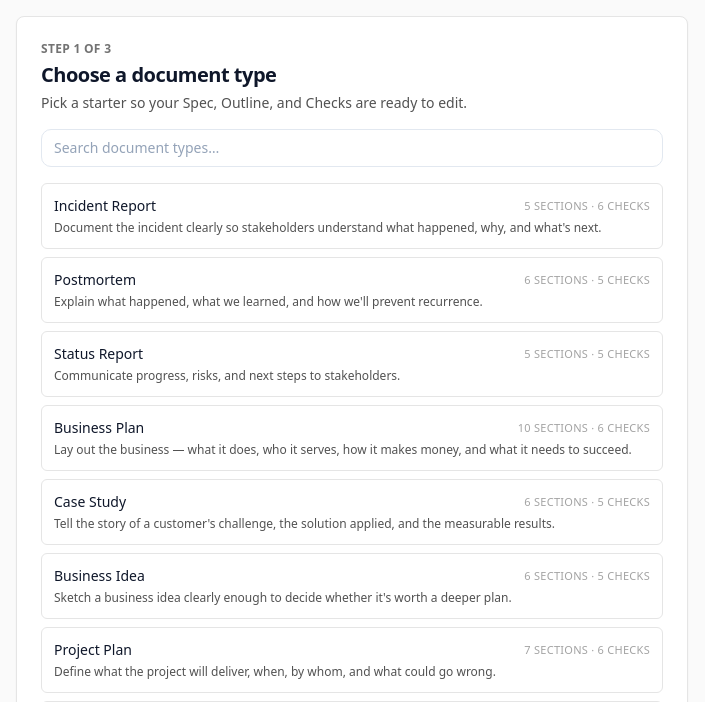
Test: OnboardingWizard step 2 (preview preloaded outline + checks) › clicking Incident Report advances to a preview of its outline + checks
The image size is (705, 702).
Click the button "Incident Report" at (352, 216), box [41,183,663,249]
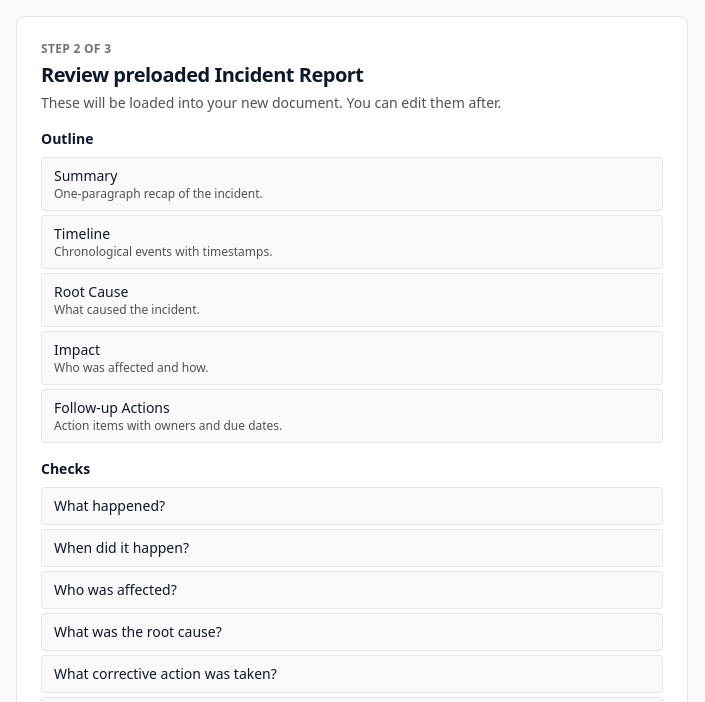
Check: the heading "Review preloaded Incident Report" is shown, box [41,61,364,88]
Check: the text "Summary" is shown, box [54,166,117,185]
Check: the text "Timeline" is shown, box [54,224,110,243]
